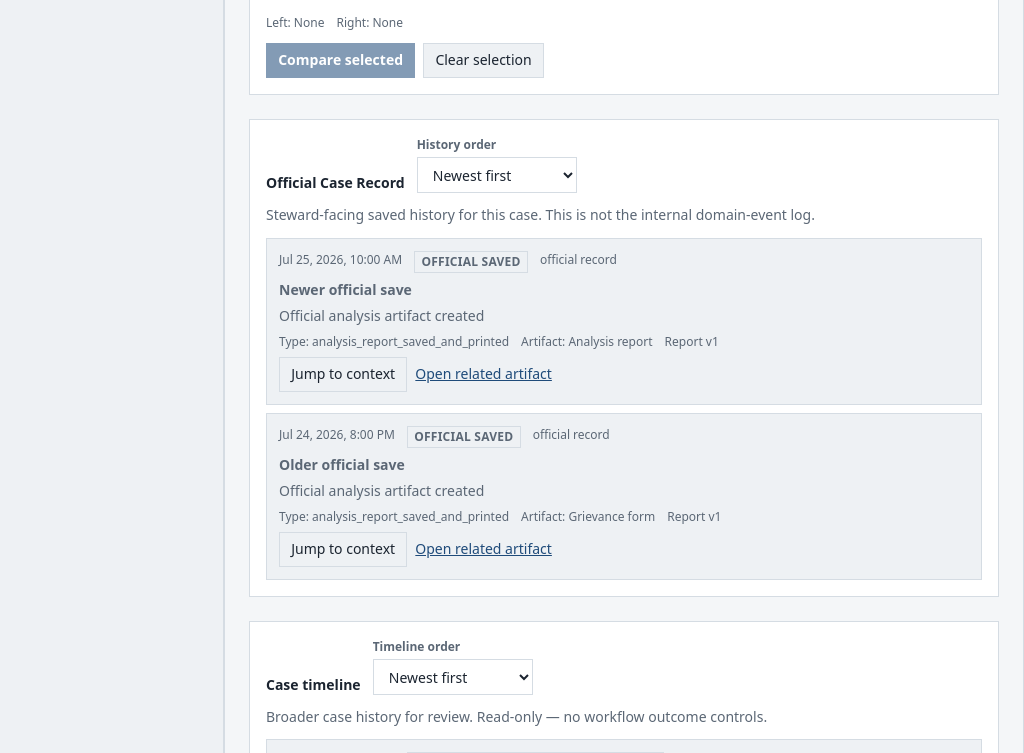
Scenario: W6 M7 Artifacts & History › loads jump-to-context as a read-only dialog
This screenshot has width=1024, height=753.
(page scrolled)
Click the button "Jump to context" below "Newer official save": (343, 374) 279,357 -> 407,392
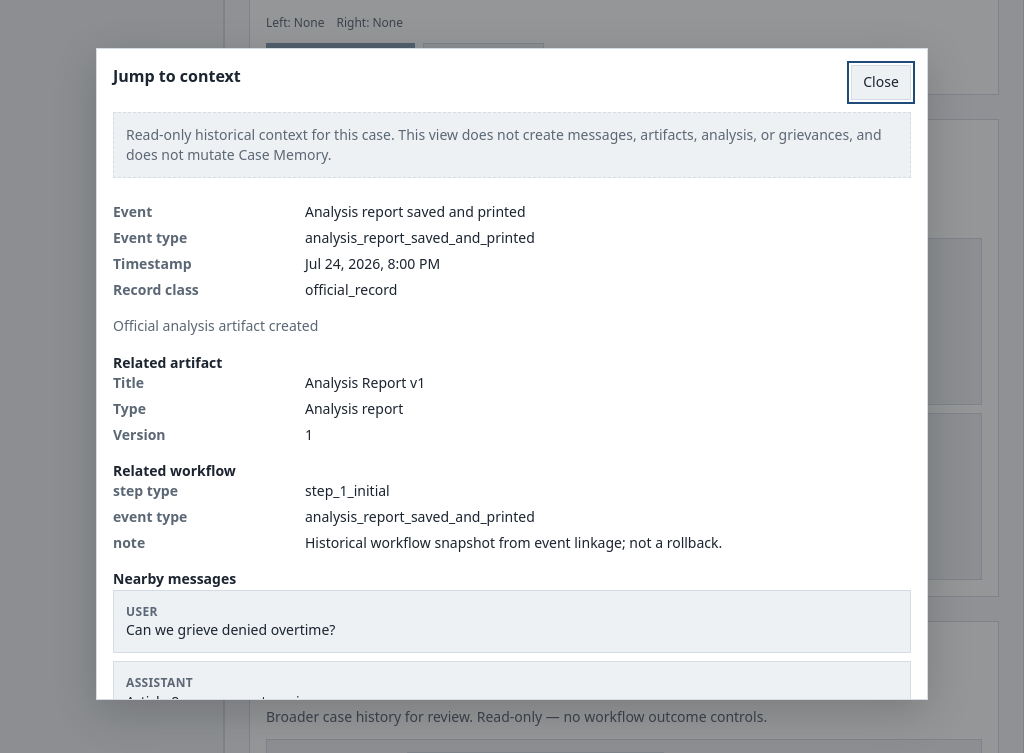
Expected: the text "Read-only historical context" is shown, 126,125 -> 849,144
Expected: the text "Can we grieve denied overtime?" is shown, 126,620 -> 335,639
Press Escape
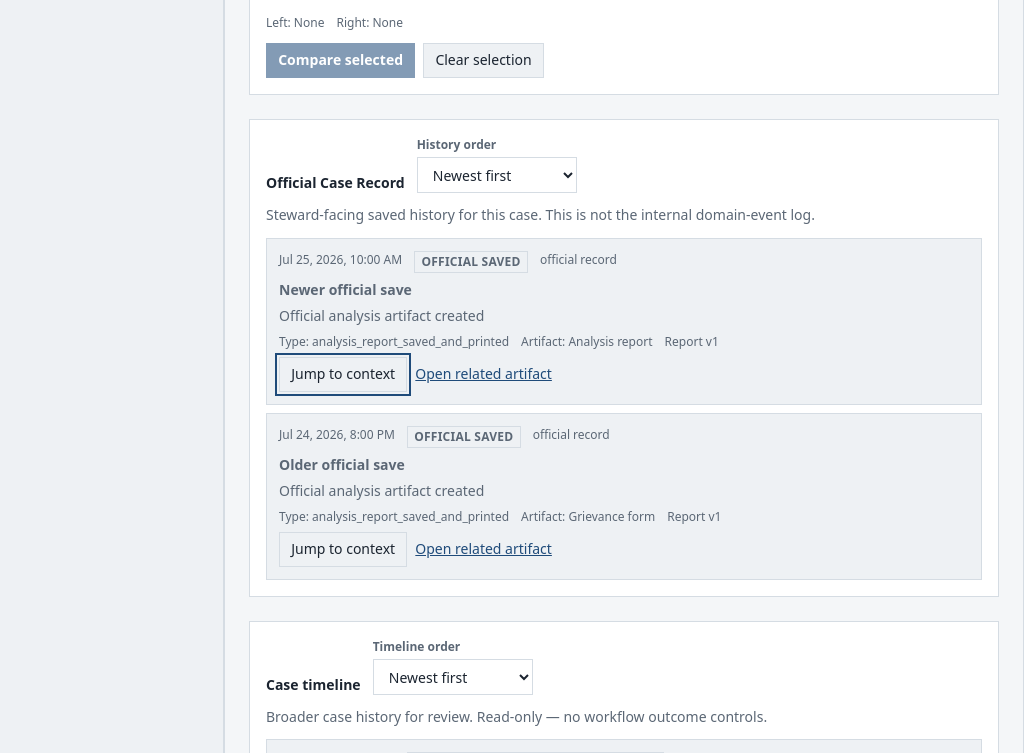
Expected: the dialog is gone
